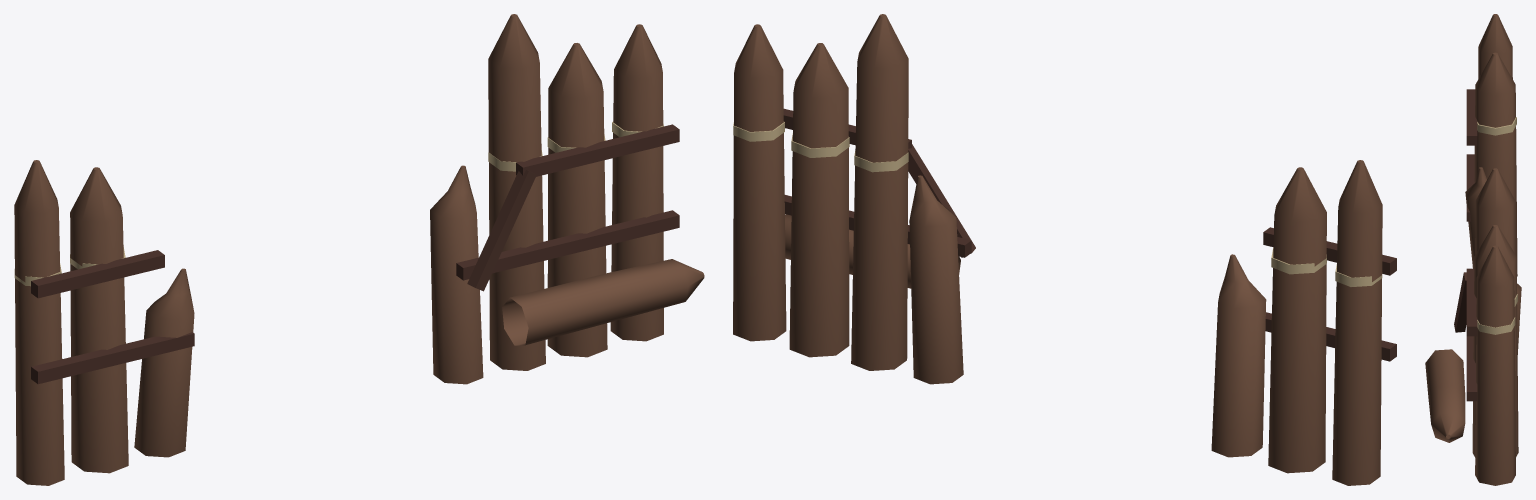
File: palisade_broken.glb
3 views of the same model, side by side, from view 1: azimuth 30°, elevation 25°; view 2: azimuth 150°, elevation 25°; view 3: azimuth 270°, elevation 25° (orthographic). The views are drawn at different scales.
Visible parts, largest first — view 1: stake0; view 2: stake0; view 3: stake0.
Boxes of the visible parts, <box> form: stake0: <box>14,14,704,485</box>; stake0: <box>733,14,1396,485</box>; stake0: <box>1425,14,1521,485</box>.
Bounding box in the file's own units: 8.75 × 4.42 × 1.48.
